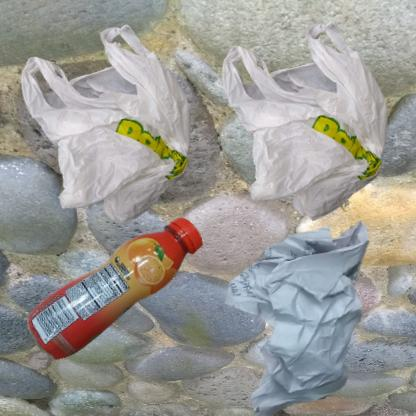bolsa: (10, 10, 238, 265), (213, 10, 416, 249)
botella: (10, 213, 262, 390)
papel: (213, 213, 406, 416)
